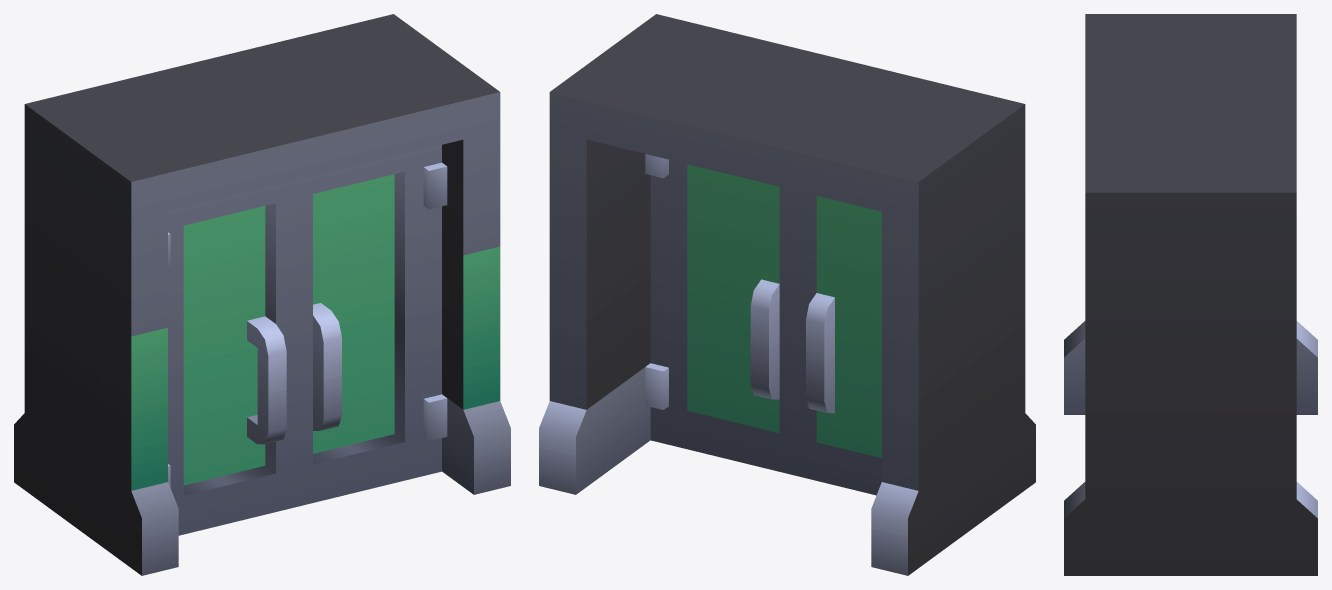
The model's file is store_wall_door.glb.
3 views of the same model, side by side, from view 1: azimuth 30°, elevation 25°; view 2: azimuth 150°, elevation 25°; view 3: azimuth 270°, elevation 25° (orthographic).
Visible parts, largest first — view 1: Group, door-right, door-left, wall-door-rotate; view 2: Group, door-right, door-left, wall-door-rotate; view 3: Group, wall-door-rotate.
Boxes of the visible parts, left/top/right/bottom form: Group: left=14, top=14, right=500, bottom=575; door-right: left=294, top=145, right=447, bottom=507; door-left: left=168, top=181, right=294, bottom=535; wall-door-rotate: left=131, top=398, right=510, bottom=575; Group: left=549, top=14, right=1035, bottom=575; door-right: left=645, top=154, right=797, bottom=476; door-left: left=798, top=191, right=881, bottom=495; wall-door-rotate: left=539, top=367, right=918, bottom=575; Group: left=1064, top=14, right=1317, bottom=575; wall-door-rotate: left=1064, top=321, right=1317, bottom=518.
Bounding box in the file's own units: 2 × 2 × 1.2.
1 material, 1 textured.
